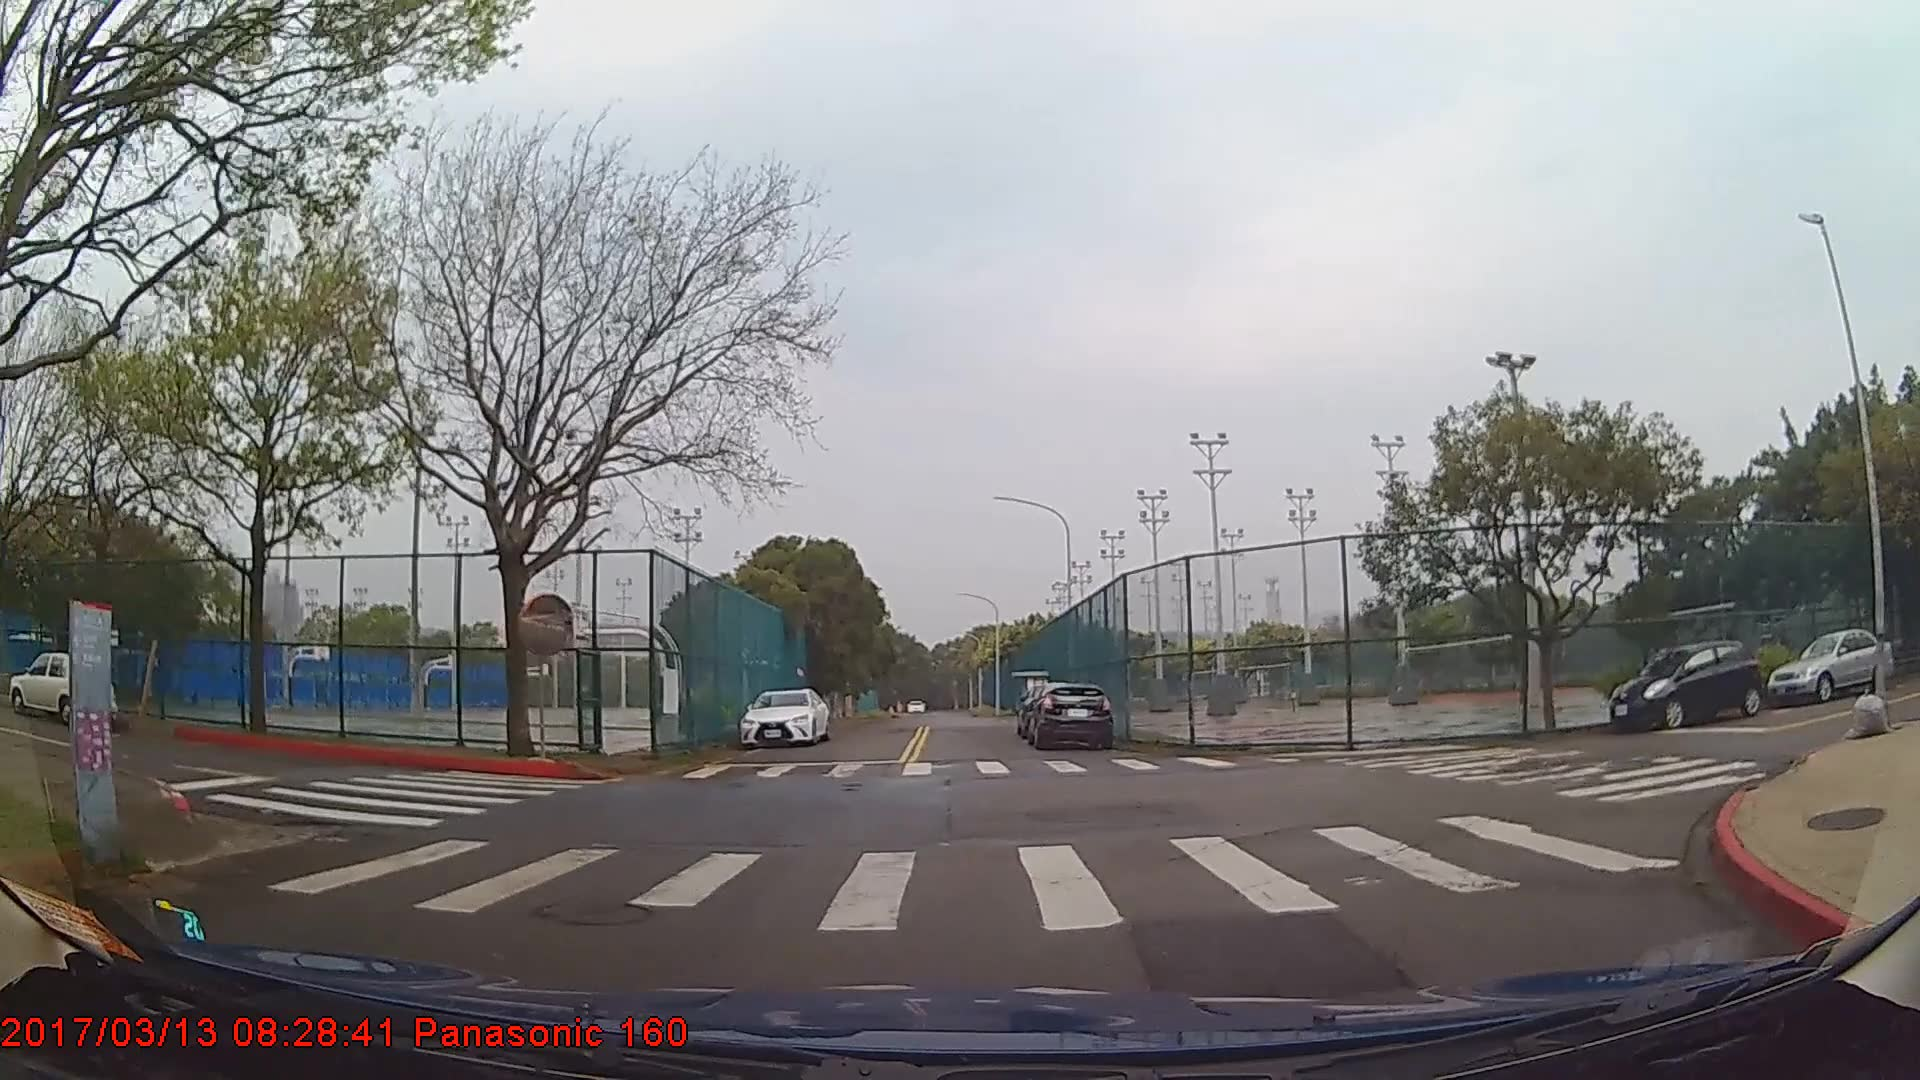vehicle: (1607, 638, 1762, 729), (1768, 622, 1896, 707), (11, 650, 111, 724), (1026, 682, 1112, 752), (741, 687, 829, 750)
